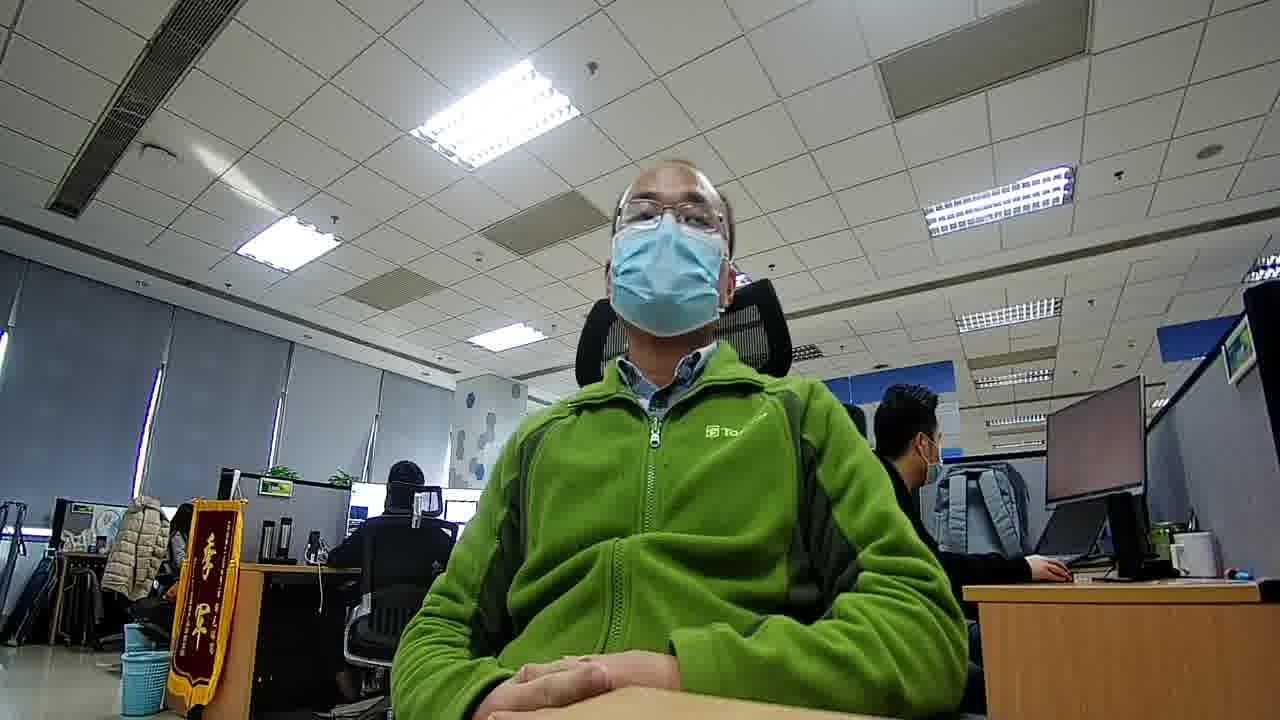face: (613, 165, 733, 337)
mask: (608, 214, 723, 341)
person: (520, 145, 839, 442), (848, 372, 970, 541), (359, 456, 437, 530), (163, 497, 195, 548)
